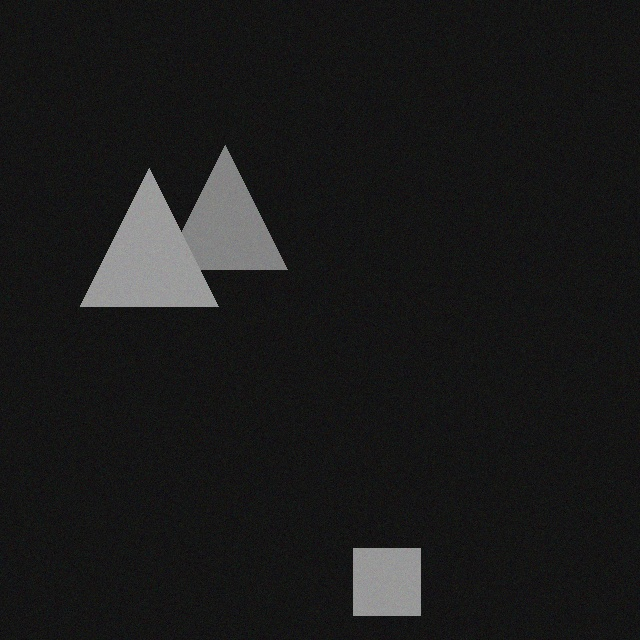square: (359, 545, 426, 612)
triangle: (86, 165, 224, 303), (169, 142, 293, 266)
